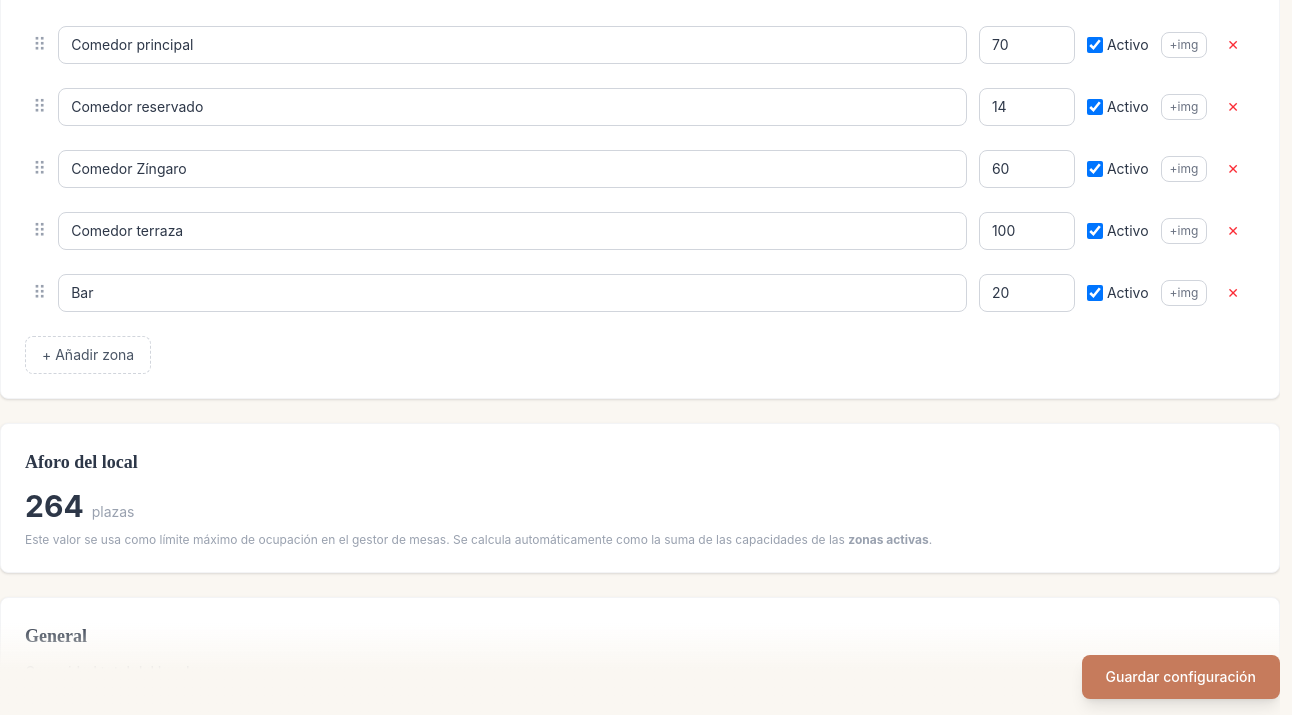
it: ConfiguracionForm (CFG-001) › Zonas section (ZON-001, ZON-002) › "Añadir zona" button adds a new zone row
(page scrolled)
Click the button with test id "zona-add" at (88, 355), box [25,336,151,374]
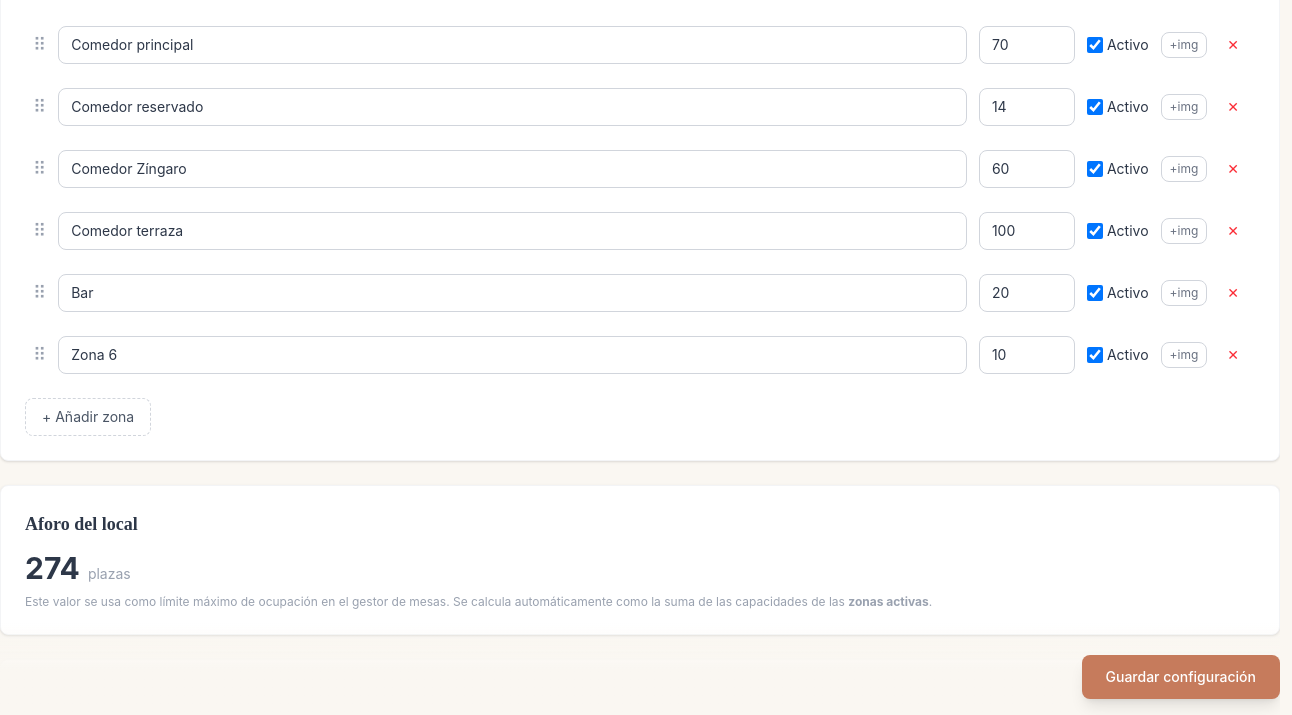
Expected: the number of fields with test id "zona-nombre" is 6, [58,26,967,64]; [58,88,967,126]; [58,150,967,188]; [58,212,967,250]; [58,274,967,312]; [58,336,967,374]
